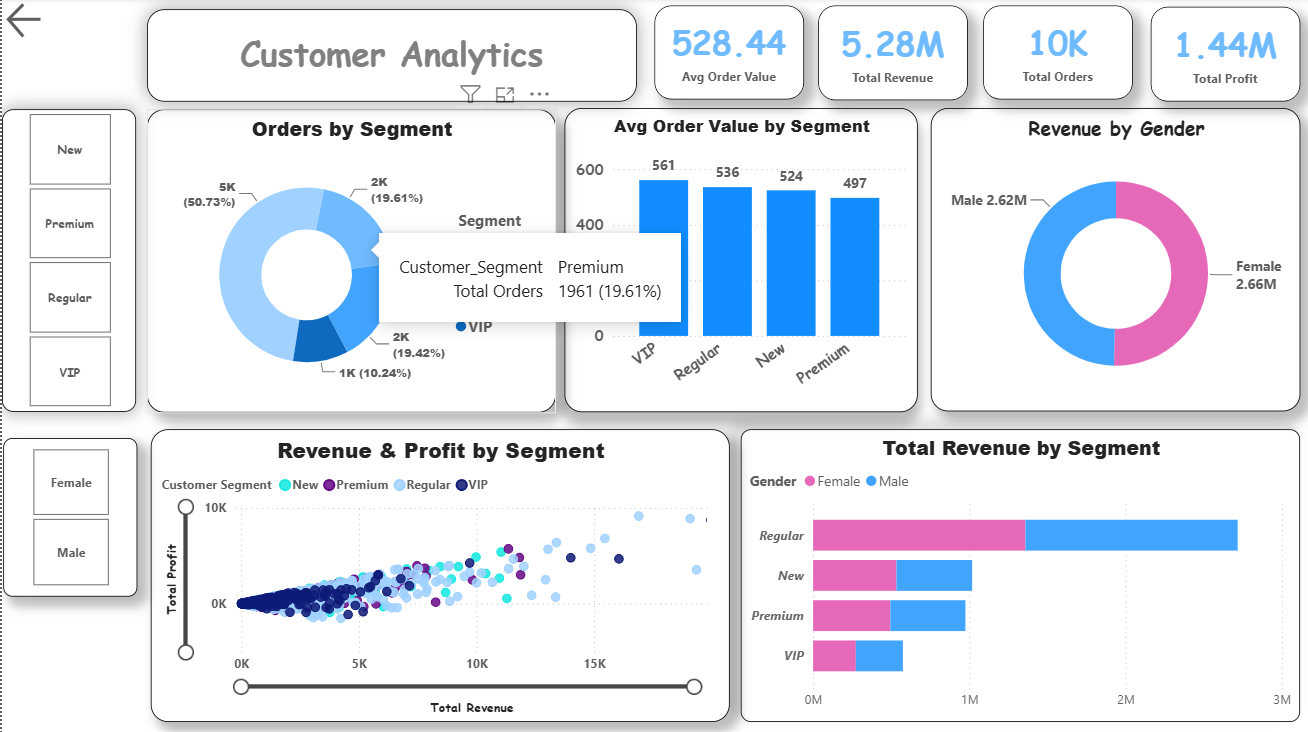

The page's visual inventory and layout, read from the dashboard file:
{"tool":"powerbi","page":{"name":"Customer Analytics","canvas":[1280,720],"ordinal":3},"visuals":[{"type":"clusteredColumnChart","title":"Avg Order Value by Segment","fields":{"Category":["dim_Customer.Customer_Segment"],"Y":["fact_Orders.Avg Order Value"]},"box":[550.3,107,345.8,297.8],"z":0},{"type":"actionButton","box":[0,0,85.1,43.9],"z":1000},{"type":"donutChart","title":" Orders by Segment","fields":{"Category":["dim_Customer.Customer_Segment"],"Y":["fact_Orders.Total Orders"]},"box":[141.8,108.8,399.9,297.1],"z":2000},{"type":"donutChart","title":" Revenue by Gender","fields":{"Category":["dim_Customer.Customer_Gender"],"Y":["fact_Orders.Total Revenue"]},"box":[908.6,107.6,362,297.1],"z":3000},{"type":"barChart","title":"Total Revenue by Segment","fields":{"Category":["dim_Customer.Customer_Segment"],"Series":["dim_Customer.Customer_Gender"],"Y":["fact_Orders.Total Revenue"]},"box":[723.2,421.3,547.5,286.8],"z":4000},{"type":"scatterChart","title":"Revenue & Profit by Segment","fields":{"Category":["dim_Customer.Customer_ID"],"Series":["dim_Customer.Customer_Segment"],"X":["fact_Orders.Total Revenue"],"Y":["fact_Orders.Total Profit"]},"box":[145.5,421.9,566.2,286.1],"z":5000},{"type":"slicer","fields":{"Values":["dim_Customer.Customer_Segment"]},"box":[0,108.8,130.8,295.9],"z":6000},{"type":"slicer","fields":{"Values":["dim_Customer.Customer_Gender"]},"box":[1.2,430.4,130.8,155.3],"z":7000},{"type":"cardVisual","fields":{"Data":["fact_Orders.Avg Order Value"]},"box":[638.3,7.3,146.7,91.7],"z":8000},{"type":"cardVisual","fields":{"Data":["fact_Orders.Total Profit"]},"box":[1123.8,8.6,146.7,92.9],"z":9000},{"type":"cardVisual","fields":{"Data":["fact_Orders.Total Revenue"]},"box":[798.5,7.3,146.7,92.9],"z":10000},{"type":"cardVisual","fields":{"Data":["fact_Orders.Total Orders"]},"box":[959.9,7.3,146.7,91.7],"z":11000},{"type":"textbox","box":[52.6,15.9,14.7,8.6],"z":12000},{"type":"textbox","box":[141.8,11,479.4,90.5],"z":13000}]}

Visuals, with their boxes in screenshot pixels (x1, y1, x2, y2), scaled from the page's 1280x720 canvas onto the 1308x732 screenshot:
"Avg Order Value by Segment" clusteredColumnChart: detection(562, 109, 916, 412)
actionButton: detection(0, 0, 87, 45)
" Orders by Segment" donutChart: detection(145, 111, 554, 413)
" Revenue by Gender" donutChart: detection(928, 109, 1298, 411)
"Total Revenue by Segment" barChart: detection(739, 428, 1298, 720)
"Revenue & Profit by Segment" scatterChart: detection(149, 429, 727, 720)
slicer - dim_Customer.Customer_Segment: detection(0, 111, 134, 411)
slicer - dim_Customer.Customer_Gender: detection(1, 438, 135, 595)
cardVisual - fact_Orders.Avg Order Value: detection(652, 7, 802, 101)
cardVisual - fact_Orders.Total Profit: detection(1148, 9, 1298, 103)
cardVisual - fact_Orders.Total Revenue: detection(816, 7, 966, 102)
cardVisual - fact_Orders.Total Orders: detection(981, 7, 1131, 101)
textbox: detection(54, 16, 69, 25)
textbox: detection(145, 11, 635, 103)
